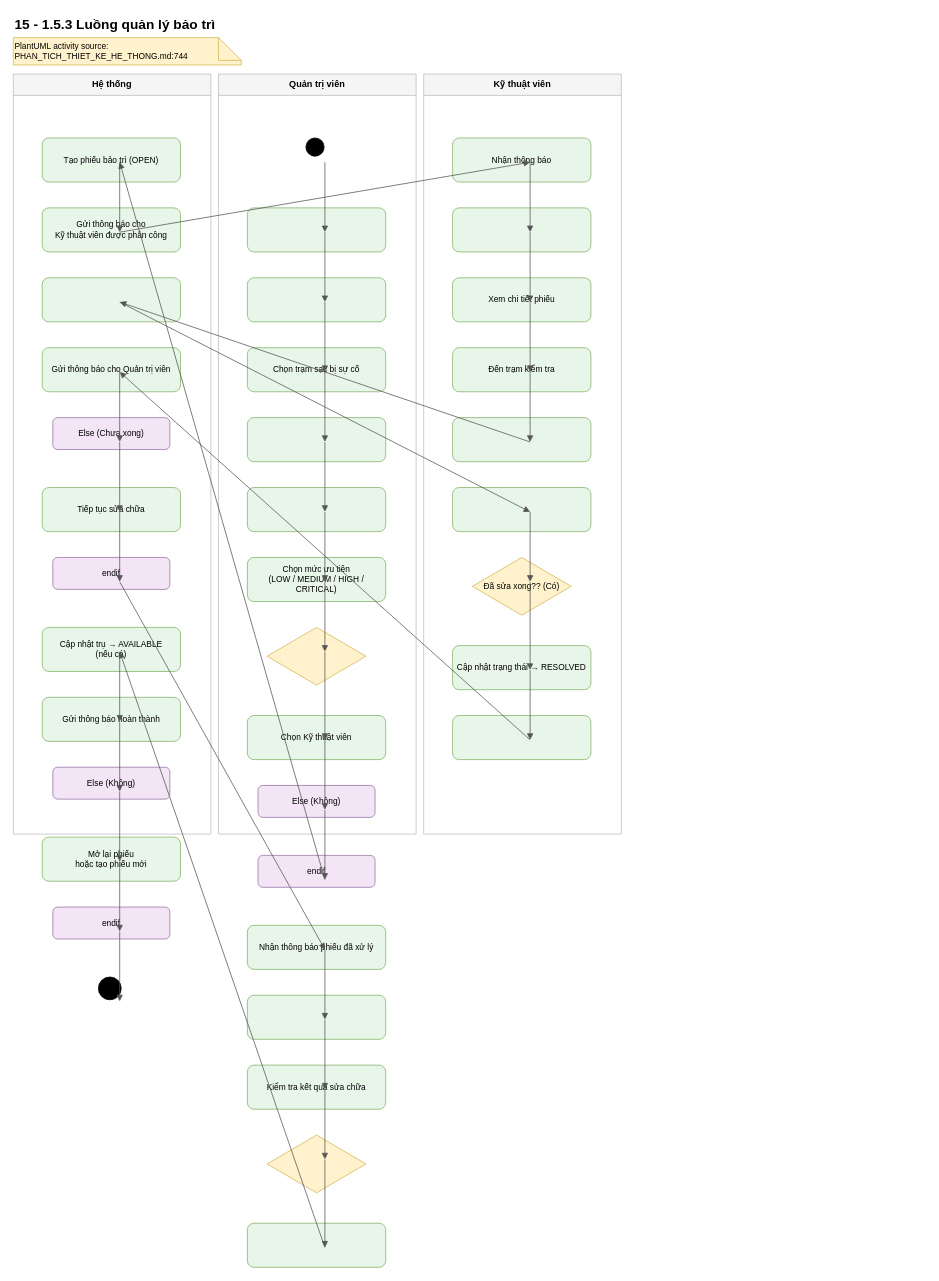
This 939x1281 diagram has some shape labels left out. The centre of each missing label's shape, as x and y in pixels:
Chọn "Tạo phiếu bảo trì: point (316, 299)
Chọn trụ sạc (nếu có): point (316, 439)
Cập nhật trạng thái → IN_PROGRESS: point (521, 439)
Cập nhật trụ → MAINTENANCE (nếu có trụ liên quan): point (110, 299)
Nhập ghi chú kết quả sửa chữa: point (521, 737)
Nhập tiêu đề và mô tả sự cố: point (316, 509)
Phân công ngay?? (Có): point (316, 656)
Tiến hành sửa chữa: point (521, 509)
Vào trang quản lý bảo trì: point (316, 229)
Xem chi tiết phiếu bảo trì: point (316, 1016)
Xem danh sách phiếu được phân công: point (521, 229)
Đóng phiếu → CLOSED: point (316, 1244)
Đạt yêu cầu?? (Có): point (316, 1163)
